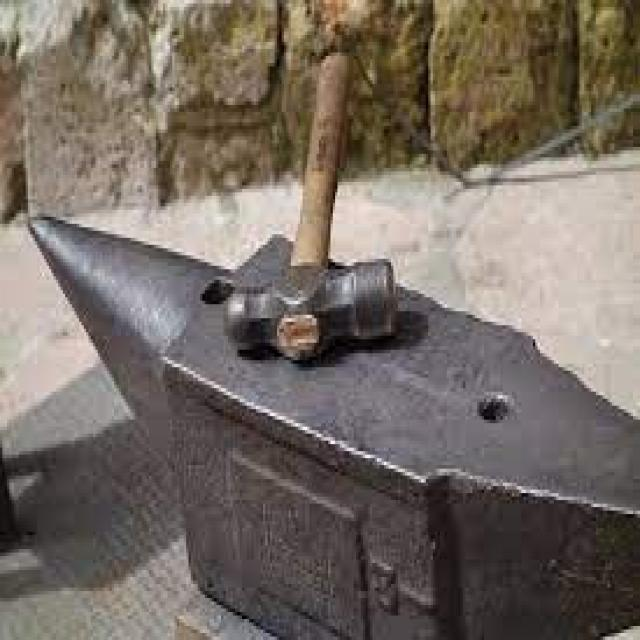hammer: (218, 43, 404, 380)
